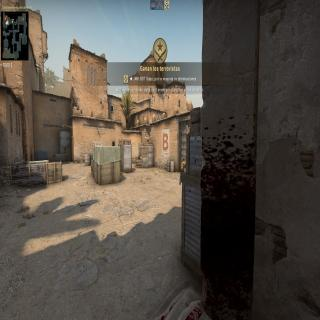T-Head: (183, 157, 185, 162)
